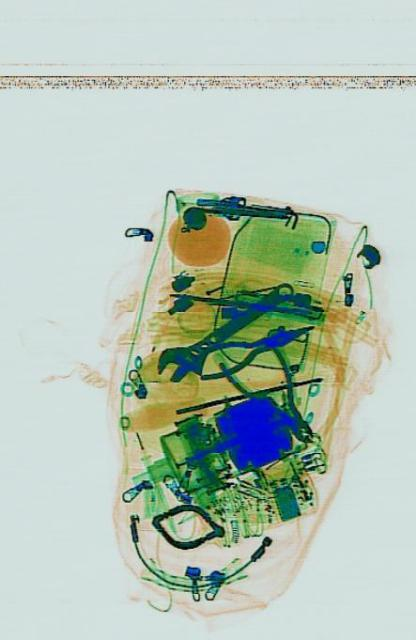Pliers: (216, 312, 325, 468), (192, 308, 314, 384)
Wrench: (150, 267, 294, 391)
